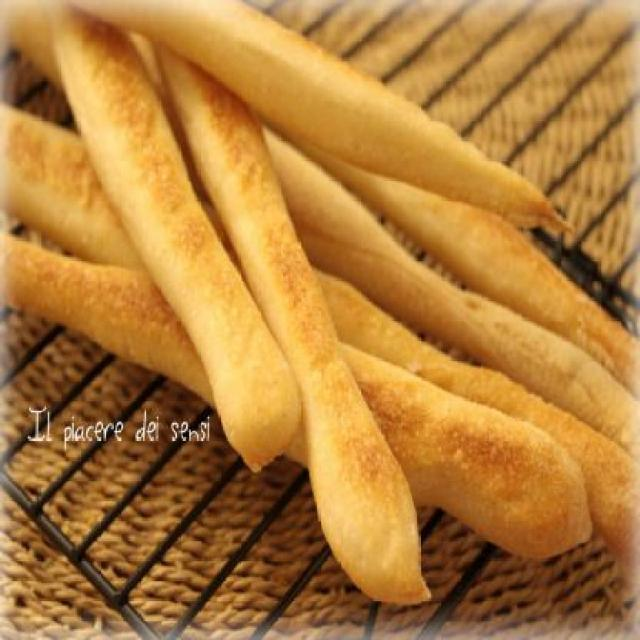Grissini: (9, 20, 638, 542)
